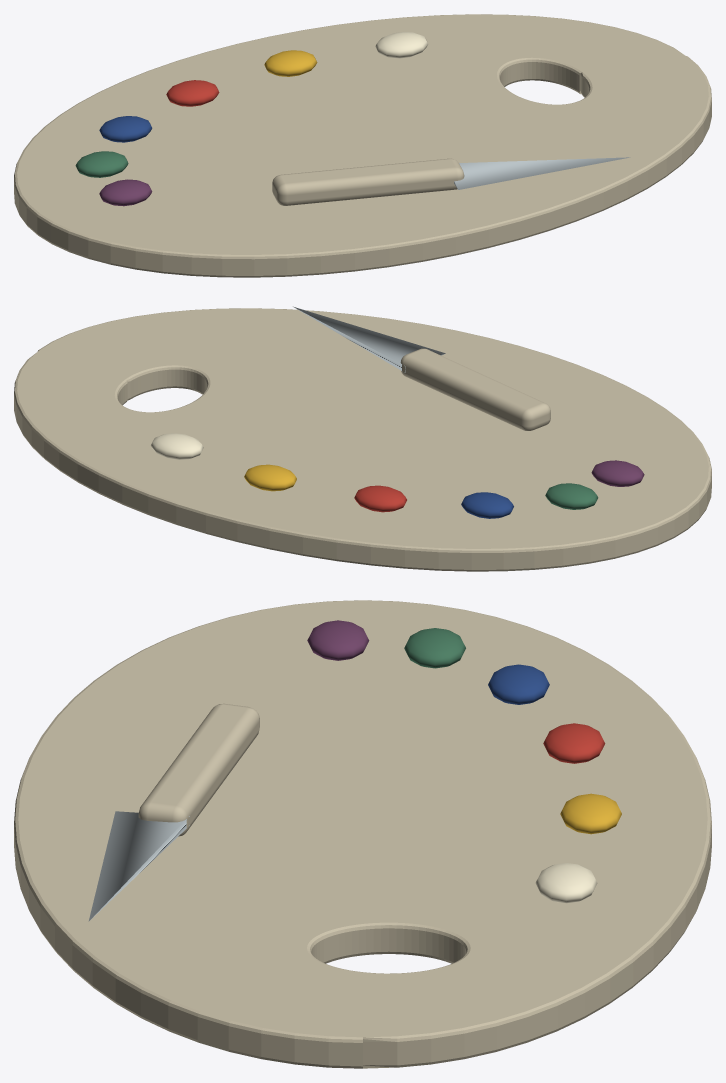
Rendered from atelier-artist-palette-chalk.glb.
3 renders of one model, top to bottom at view 1: azimuth 30°, elevation 25°; view 2: azimuth 150°, elevation 25°; view 3: azimuth 270°, elevation 25°, orthographic. The views are drawn at different scales.
Bounding box in the file's own units: 0.242 × 0.015 × 0.162.
